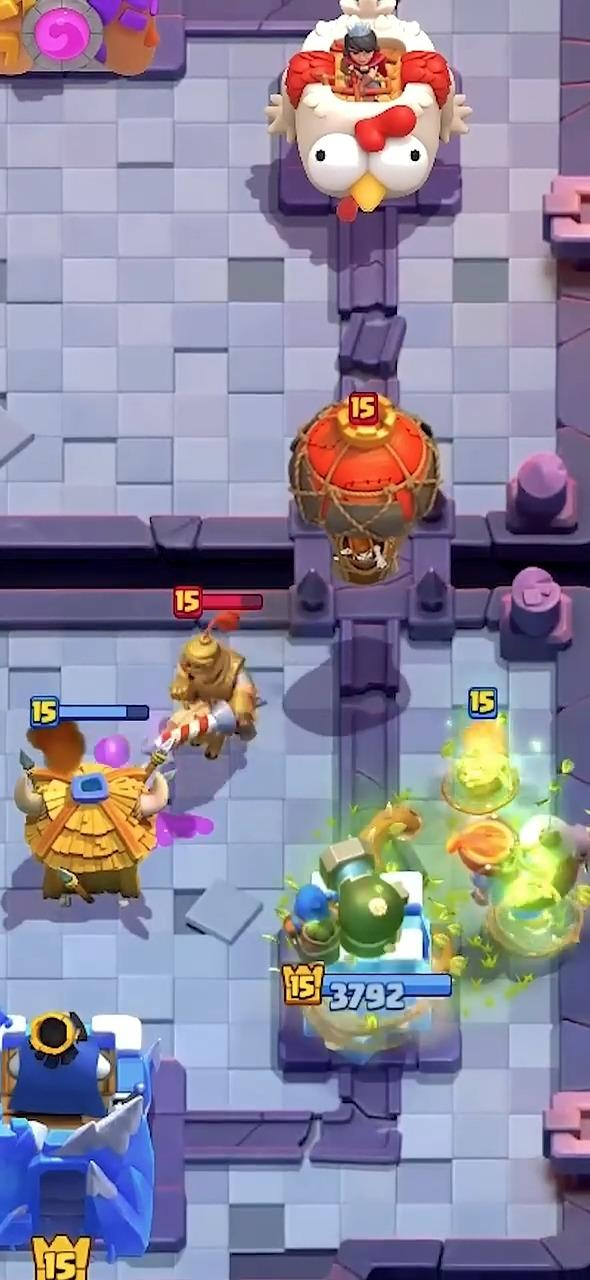baloon: (291, 392, 438, 585)
goblin hut: (13, 722, 168, 904)
prince: (163, 613, 259, 760)
vines: (485, 895, 583, 972), (304, 1000, 429, 1060)
